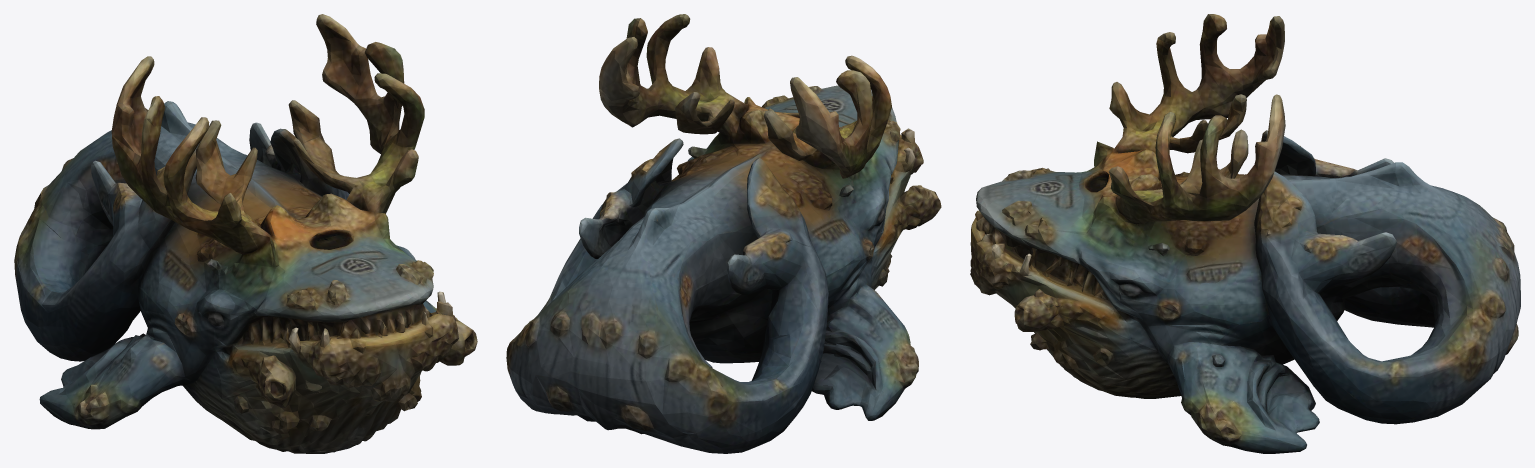
The model's file is sunkenhorn.glb.
The picture shows the model from 3 angles, left to right: view 1: azimuth 30°, elevation 25°; view 2: azimuth 150°, elevation 25°; view 3: azimuth 270°, elevation 25°; orthographic projection. The views are drawn at different scales.
Parts seen in each view (by area): view 1: world; view 2: world; view 3: world.
Boxes of the visible parts, x1,y1,x2,y2 form: world: (14, 14, 477, 453); world: (506, 14, 941, 453); world: (970, 14, 1520, 453).
Size of the model in its own units: 0.7297 by 0.6568 by 0.9968.
Materials: 1 (1 with a texture image).
